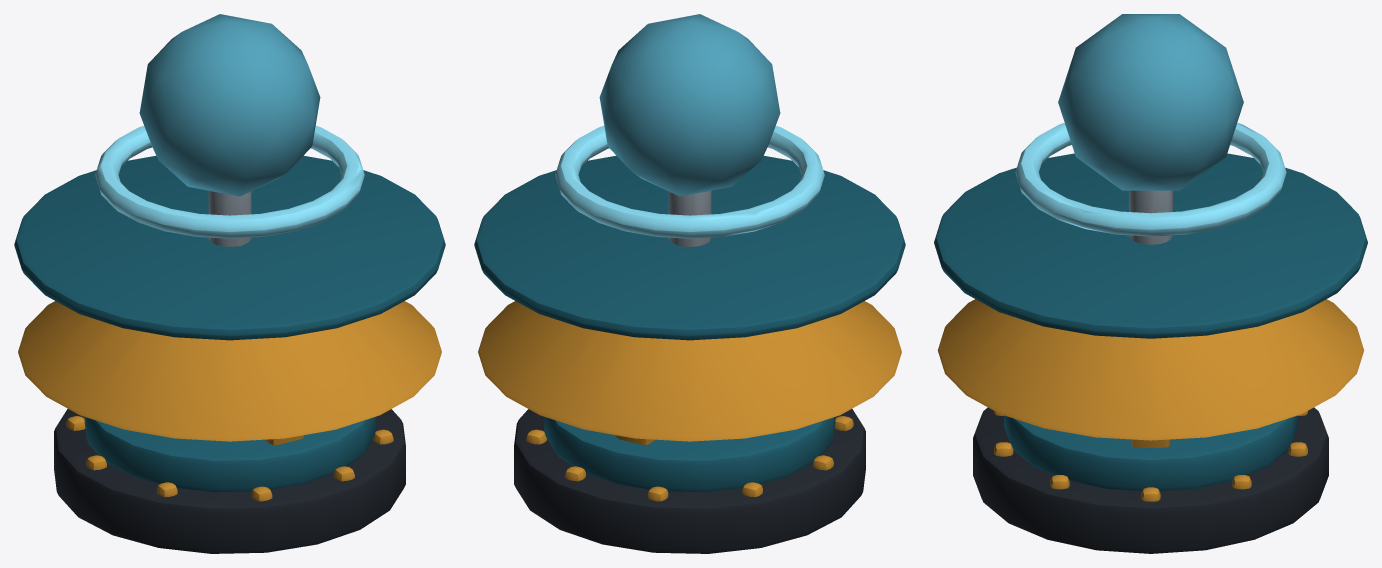
Rendered from BubbleHead.obj.
3 renders of one model, left to right at view 1: azimuth 30°, elevation 25°; view 2: azimuth 150°, elevation 25°; view 3: azimuth 270°, elevation 25°, orthographic.
Parts seen in each view (by area): view 1: BubbleHead; view 2: BubbleHead; view 3: BubbleHead.
Part boxes in pixels (box(x1,y1,x2,y2)): BubbleHead: box(14, 14, 445, 553); BubbleHead: box(474, 14, 905, 553); BubbleHead: box(934, 14, 1367, 553).
Size of the model in its own units: 1.12 by 1.32 by 1.12.
